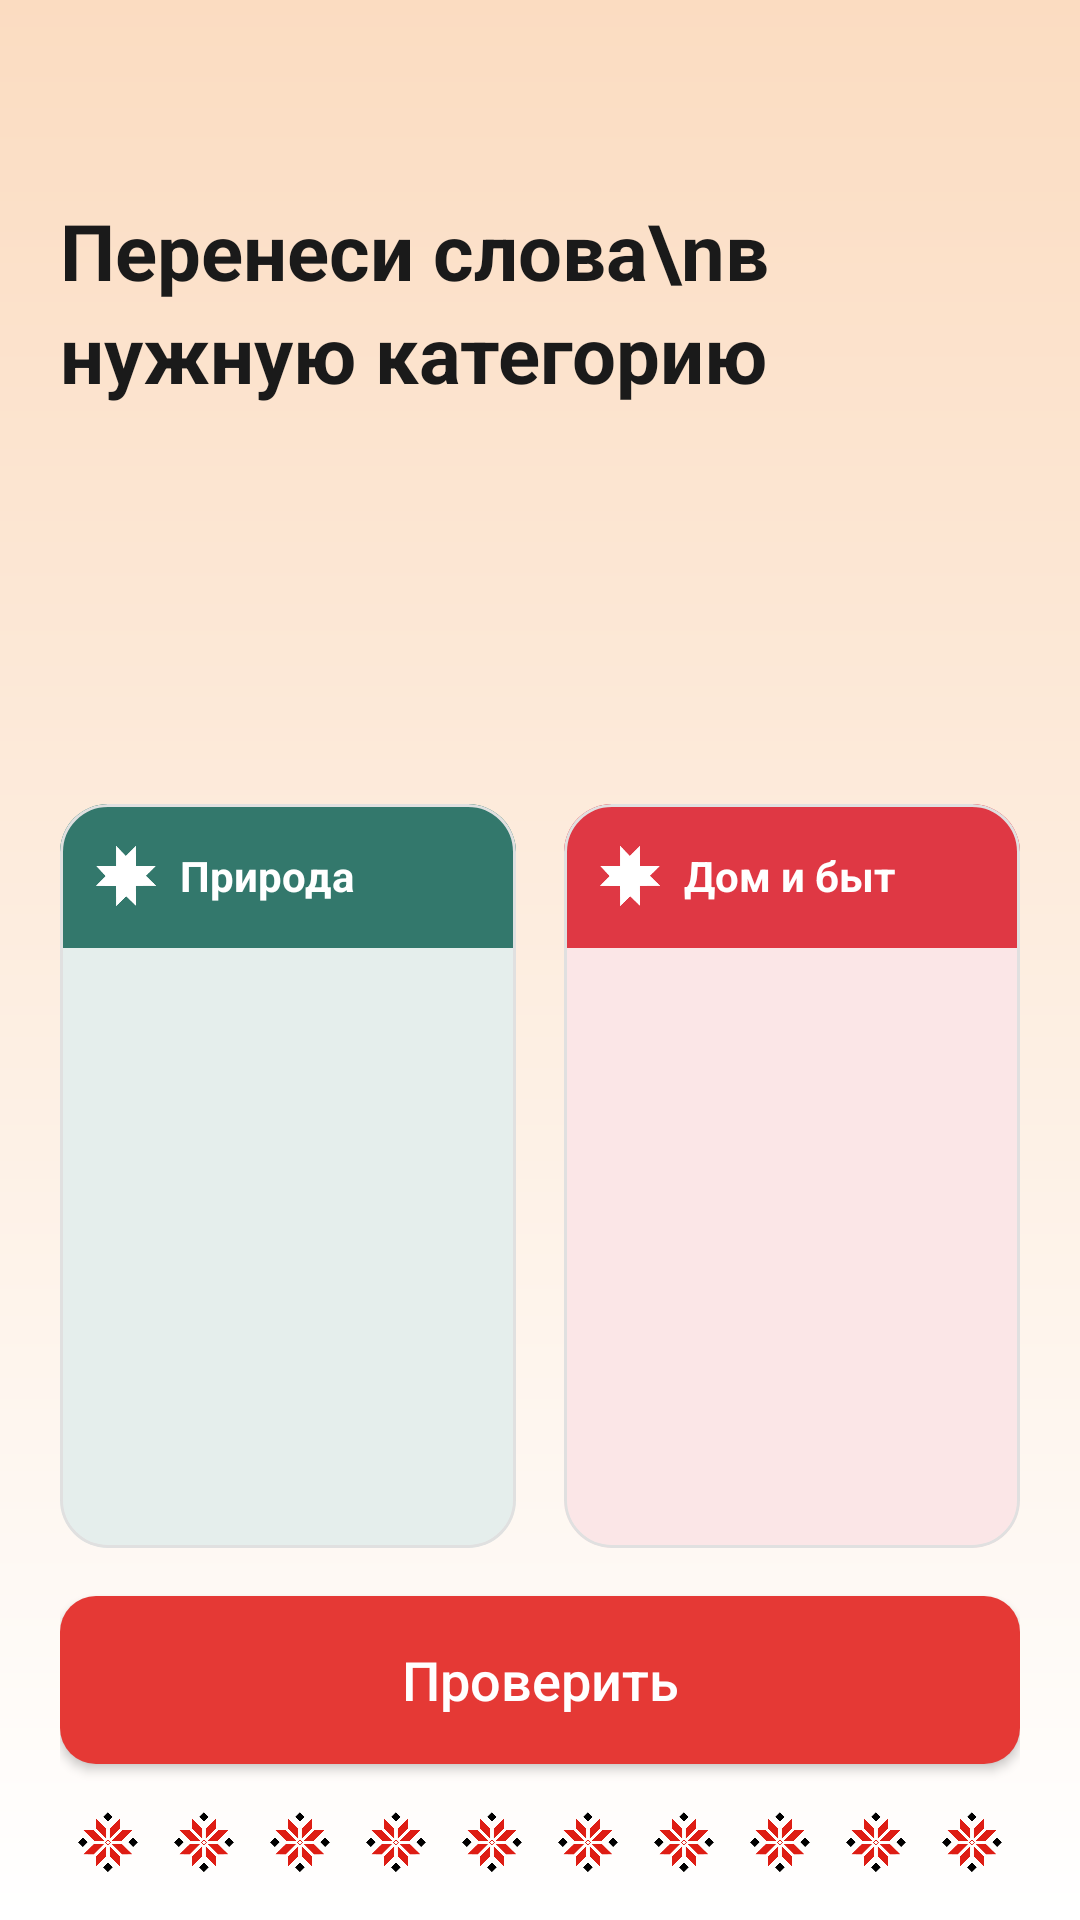

Screen size 1080w x 1920h. Icon name, then its box in pixels as rect(x1, y1, x2, y2):
star: rect(96, 846, 156, 906), rect(600, 846, 660, 906)
